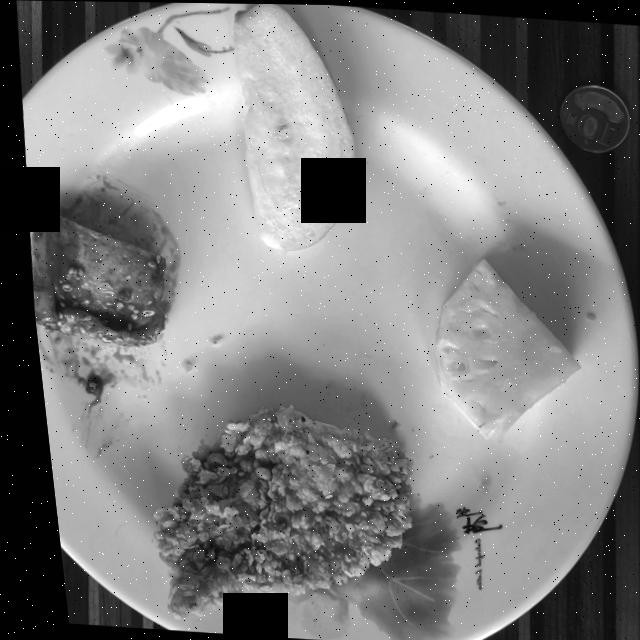coin: (558, 83, 627, 151)
creamy tofu: (26, 214, 159, 346)
fried chicken cutlet: (140, 406, 402, 618)
guava -sliced-: (233, 3, 352, 250)
pineapple: (428, 259, 571, 438)
